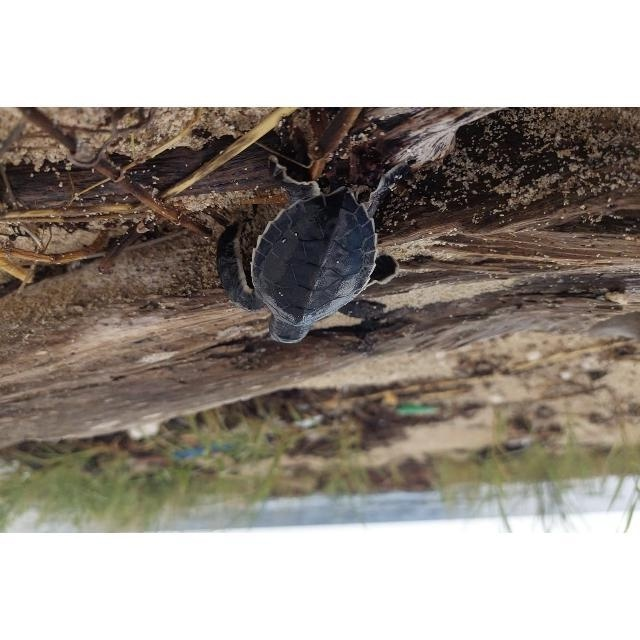turtle: (216, 154, 412, 342)
